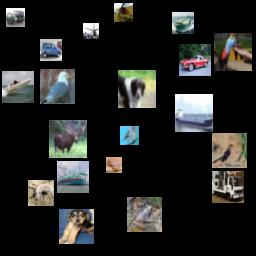airplane: (114, 3, 133, 22), (83, 23, 99, 39)
automobile: (179, 44, 211, 76), (40, 39, 62, 61)
bird: (214, 33, 252, 71), (40, 69, 75, 104), (212, 133, 247, 168), (120, 126, 139, 145)
deer: (49, 120, 87, 158), (28, 180, 54, 206)
dog: (118, 70, 156, 108), (59, 209, 94, 244)
frog: (127, 197, 162, 232), (106, 157, 122, 173)
ship: (175, 94, 213, 132), (2, 71, 34, 103), (57, 161, 89, 193), (172, 12, 194, 34)
truck: (212, 171, 244, 203), (6, 8, 25, 27)
